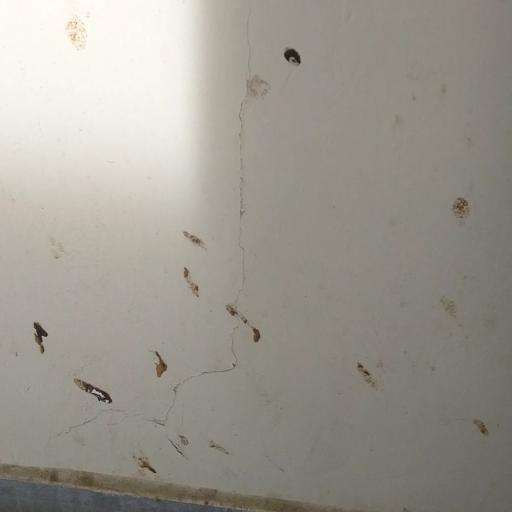stain: (143, 224, 301, 384), (8, 307, 121, 419), (131, 411, 261, 489), (233, 30, 333, 112), (346, 344, 413, 402), (57, 9, 104, 66), (427, 175, 475, 225), (434, 283, 474, 331), (39, 235, 76, 269), (461, 410, 494, 443)
